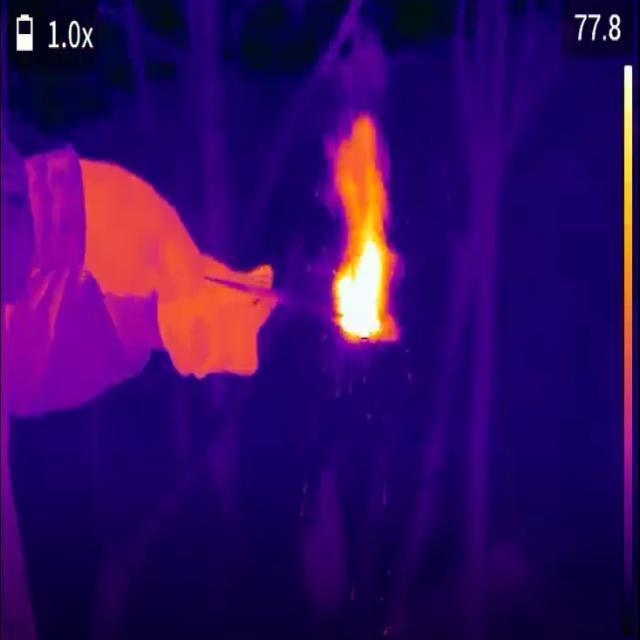fire: (333, 146, 403, 349)
